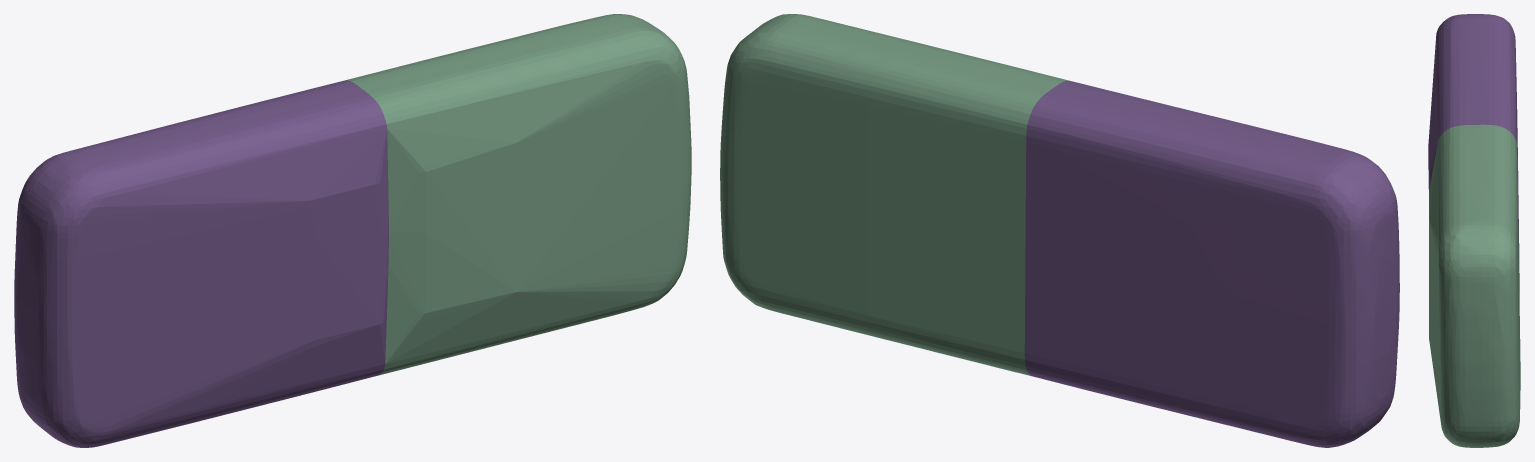
Rendered from coacd_collision.obj.
3 renders of one model, left to right at view 1: azimuth 30°, elevation 25°; view 2: azimuth 150°, elevation 25°; view 3: azimuth 270°, elevation 25°, orthographic. The views are drawn at different scales.
Parts seen in each view (by area): view 1: geometry_1, geometry_0; view 2: geometry_1, geometry_0; view 3: geometry_0, geometry_1.
Part boxes in pixels (x1,y1,x2,y2): geometry_1: (14, 80, 388, 447); geometry_0: (346, 14, 691, 375); geometry_1: (1024, 80, 1399, 447); geometry_0: (720, 14, 1068, 376); geometry_0: (1429, 124, 1520, 447); geometry_1: (1428, 14, 1519, 292).
Bounding box in the file's own units: 137 × 57.01 × 21.37.
